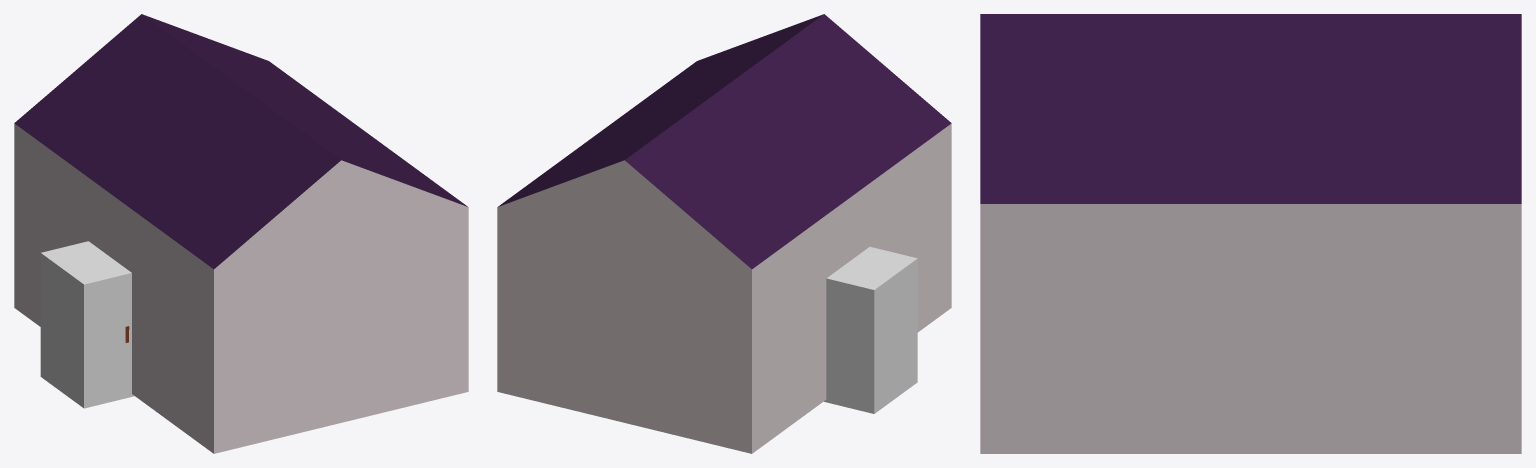
Rendered from house_da.glb.
3 renders of one model, left to right at view 1: azimuth 30°, elevation 25°; view 2: azimuth 150°, elevation 25°; view 3: azimuth 270°, elevation 25°, orthographic. The views are drawn at different scales.
Parts seen in each view (by area): view 1: house_col, hole-noimp; view 2: house_col, hole-noimp; view 3: house_col.
Boxes of the visible parts, x1,y1,x2,y2 form: house_col: [14, 14, 468, 453]; hole-noimp: [40, 241, 134, 408]; house_col: [497, 14, 951, 453]; hole-noimp: [824, 247, 917, 413]; house_col: [980, 14, 1521, 453].
Size of what is drawn, in the model's own units: 5.51 by 4.62 by 6.3.
